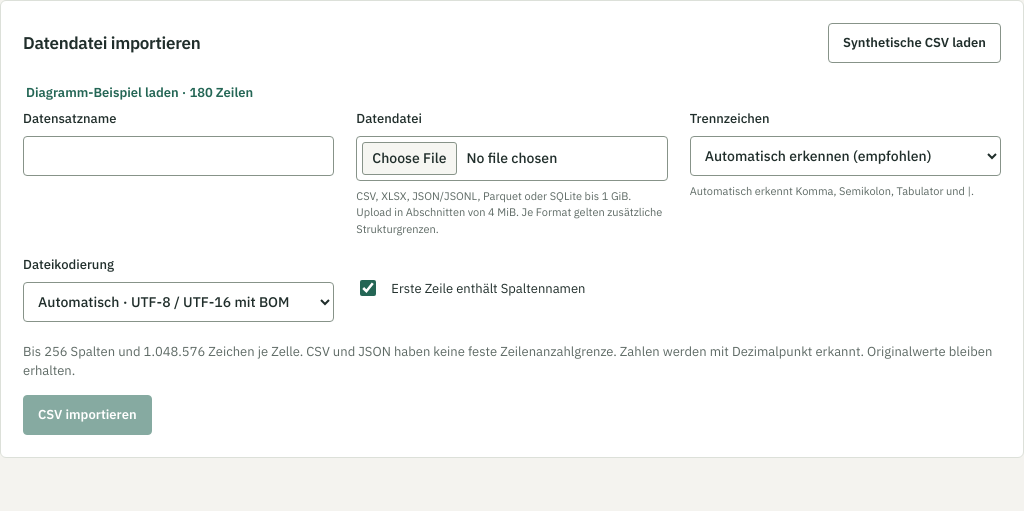
it: verlangt eine Datei vor dem Import
This screenshot has width=1024, height=511.
Check: the button "CSV importieren" is disabled, box [23,394,152,434]
Click the button "Synthetische CSV laden": (914, 43) [828,23,1001,63]
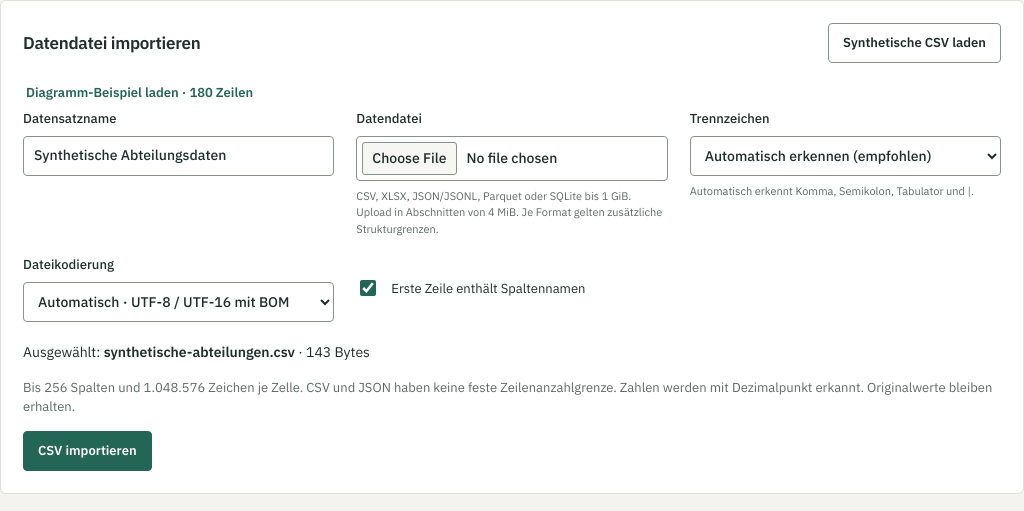
Check: the button "CSV importieren" is enabled, box [23,430,152,470]
Check: the field labelled "Datensatzname" holds "Synthetische Abteilungsdaten", box [23,136,334,176]
